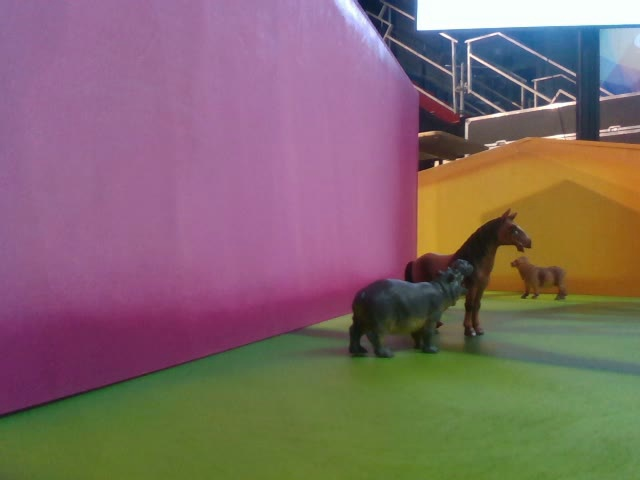toy: (347, 257, 474, 359), (511, 255, 567, 301)
